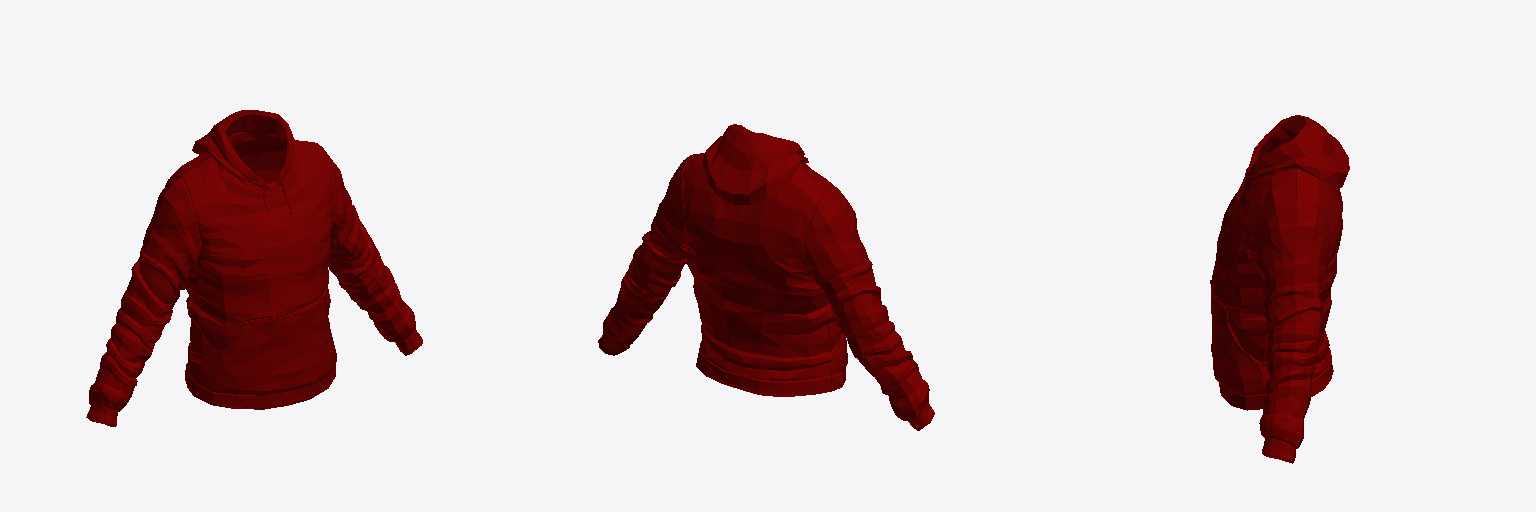
The model's file is red-hoodie.obj.
3 renders of one model, left to right at view 1: azimuth 30°, elevation 25°; view 2: azimuth 150°, elevation 25°; view 3: azimuth 270°, elevation 25°, orthographic.
Size of the model in its own units: 25.82 by 19.83 by 9.36.